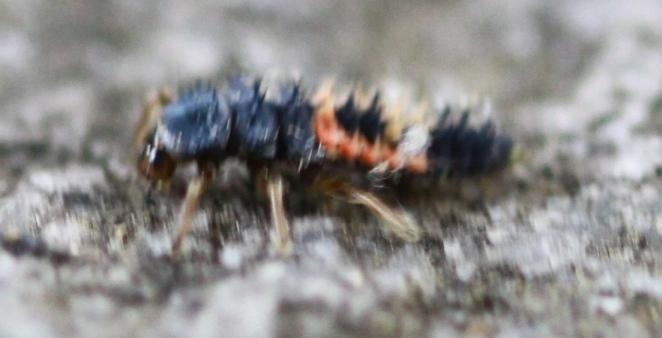ladybug: (129, 73, 518, 264)
